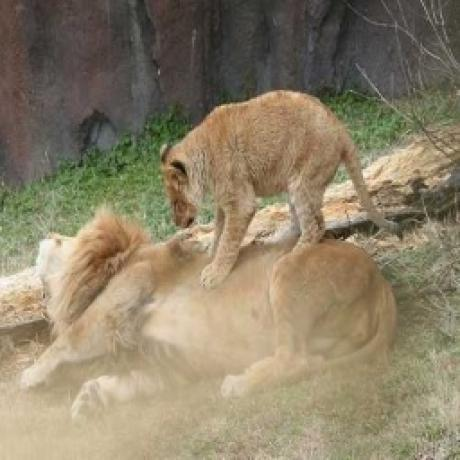Lion: (24, 205, 400, 417), (158, 79, 398, 284)
